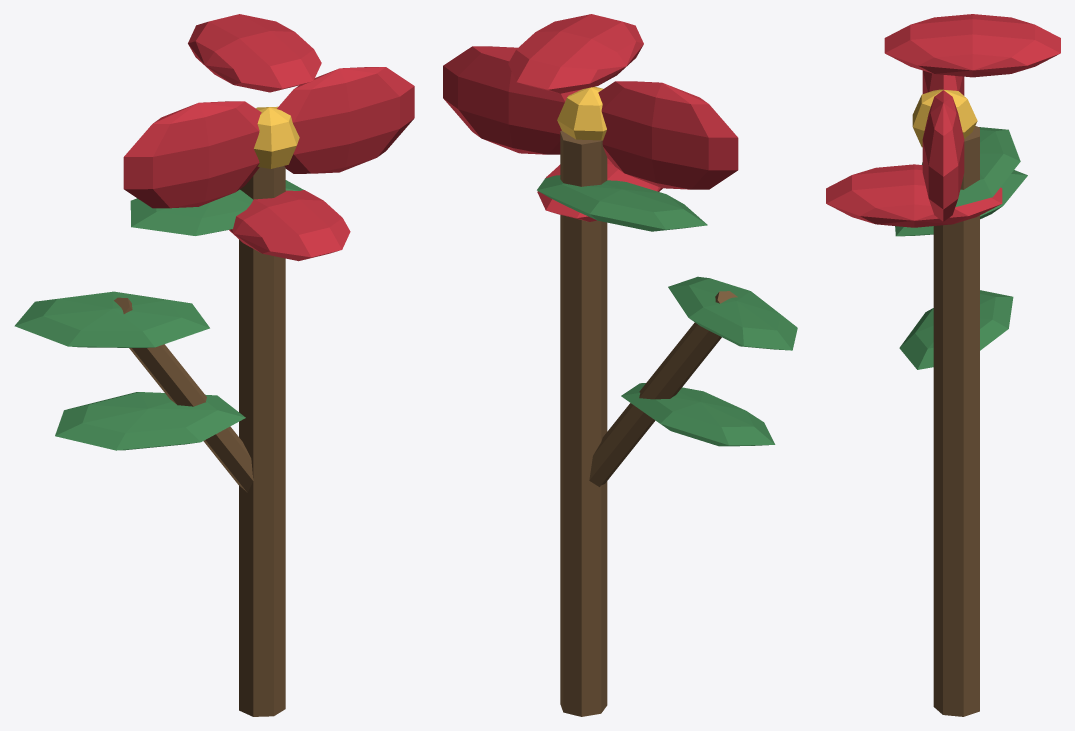
File: hibiscus-lod1.glb
3 renders of one model, left to right at view 1: azimuth 30°, elevation 25°; view 2: azimuth 150°, elevation 25°; view 3: azimuth 270°, elevation 25°, orthographic.
Parts seen in each view (by area): view 1: Hibiscus_Stem.001, Hibiscus_Petal_2.001, Hibiscus_Petal_0.001, Hibiscus_Leaf_1.001, Hibiscus_Leaf_0.001, Hibiscus_Petal_1.001, Hibiscus_Petal_3.001, Hibiscus_Branch_A.001, Hibiscus_Leaf_2.001, Hibiscus_Flower_Center.001; view 2: Hibiscus_Stem.001, Hibiscus_Petal_2.001, Hibiscus_Petal_0.001, Hibiscus_Petal_1.001, Hibiscus_Leaf_1.001, Hibiscus_Branch_A.001, Hibiscus_Leaf_2.001, Hibiscus_Leaf_0.001, Hibiscus_Flower_Center.001, Hibiscus_Petal_3.001; view 3: Hibiscus_Stem.001, Hibiscus_Petal_1.001, Hibiscus_Petal_3.001, Hibiscus_Petal_0.001, Hibiscus_Leaf_0.001, Hibiscus_Leaf_2.001, Hibiscus_Flower_Center.001, Hibiscus_Leaf_1.001, Hibiscus_Petal_2.001.
Part boxes in pixels (left/top/right/bottom): Hibiscus_Stem.001: left=239, top=166, right=285, bottom=716; Hibiscus_Petal_2.001: left=123, top=101, right=261, bottom=208; Hibiscus_Petal_0.001: left=277, top=67, right=414, bottom=173; Hibiscus_Leaf_1.001: left=14, top=291, right=209, bottom=347; Hibiscus_Leaf_0.001: left=55, top=392, right=245, bottom=450; Hibiscus_Petal_1.001: left=188, top=14, right=321, bottom=92; Hibiscus_Petal_3.001: left=229, top=190, right=350, bottom=261; Hibiscus_Branch_A.001: left=114, top=297, right=253, bottom=492; Hibiscus_Leaf_2.001: left=130, top=180, right=303, bottom=235; Hibiscus_Flower_Center.001: left=253, top=106, right=299, bottom=168; Hibiscus_Stem.001: left=560, top=130, right=607, bottom=716; Hibiscus_Petal_2.001: left=598, top=81, right=738, bottom=189; Hibiscus_Petal_0.001: left=443, top=46, right=581, bottom=154; Hibiscus_Petal_1.001: left=508, top=14, right=643, bottom=93; Hibiscus_Leaf_1.001: left=668, top=276, right=797, bottom=350; Hibiscus_Branch_A.001: left=589, top=291, right=737, bottom=486; Hibiscus_Leaf_2.001: left=537, top=175, right=707, bottom=231; Hibiscus_Leaf_0.001: left=621, top=383, right=775, bottom=446; Hibiscus_Flower_Center.001: left=557, top=86, right=606, bottom=140; Hibiscus_Petal_3.001: left=537, top=158, right=662, bottom=221; Hibiscus_Stem.001: left=933, top=126, right=979, bottom=716; Hibiscus_Petal_1.001: left=884, top=14, right=1060, bottom=77; Hibiscus_Petal_3.001: left=826, top=164, right=1002, bottom=227; Hibiscus_Petal_0.001: left=922, top=90, right=964, bottom=221; Hibiscus_Leaf_0.001: left=899, top=290, right=1013, bottom=369; Hibiscus_Leaf_2.001: left=922, top=127, right=1020, bottom=206; Hibiscus_Flower_Center.001: left=912, top=89, right=977, bottom=147; Hibiscus_Leaf_1.001: left=895, top=170, right=1027, bottom=236; Hibiscus_Petal_2.001: left=922, top=70, right=964, bottom=95.
Size of the model in its own units: 1.8 by 3.08 by 0.9628.
